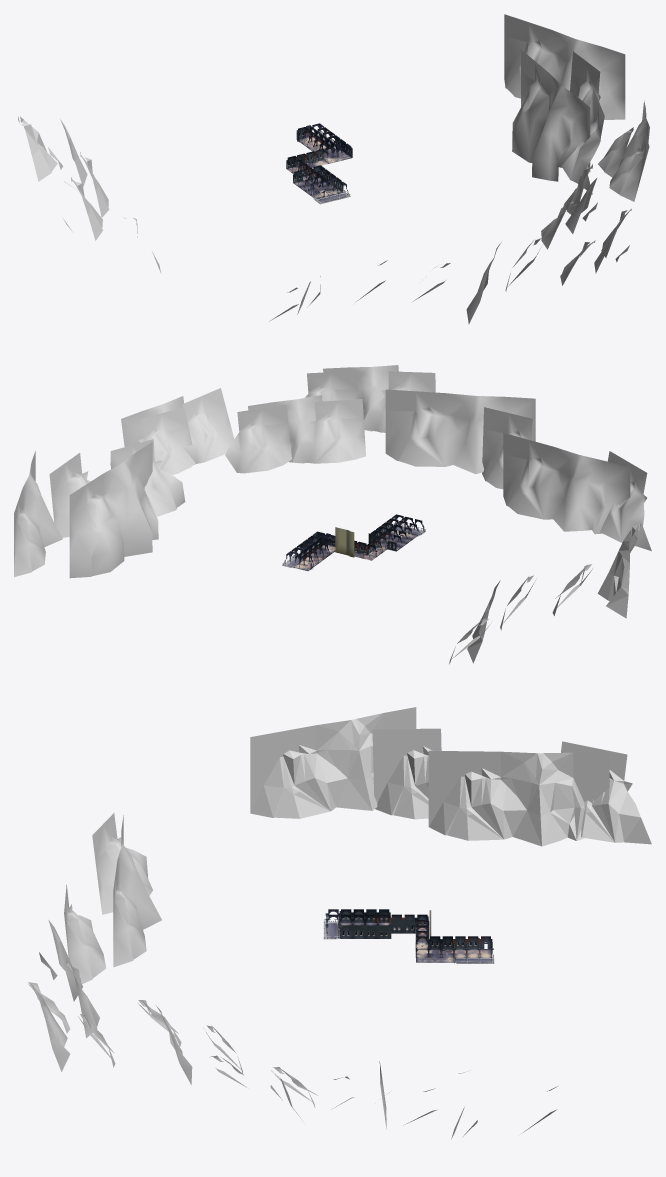
File: 06End.gltf
3 views of the same model, one above another, from view 1: azimuth 30°, elevation 25°; view 2: azimuth 150°, elevation 25°; view 3: azimuth 270°, elevation 25° (orthographic). The views are drawn at different scales.
Visible parts, largest first — view 1: stg013_p04_Mesh_0000.002, stg013_o44_Mesh_0000.001, stg013_o44_Mesh_0015.001, stg013_o44_Mesh_0001.001, stg013_o44_Mesh_0005.001, stg013_o44_Mesh_0011.001; view 2: stg013_p04_Mesh_0000.002, stg013_o44_Mesh_0000.001, stg013_o44_Mesh_0001.001, stg013_o44_Mesh_0015.001, stg013_o44_Mesh_0005.001, stg013_o04_Mesh_0000.001; view 3: stg013_p04_Mesh_0000.002, stg013_o44_Mesh_0001.001, stg013_o44_Mesh_0011.001, stg013_o44_Mesh_0015.001, stg013_o44_Mesh_0000.001.
Boxes of the visible parts, left/top/right/bottom form: stg013_p04_Mesh_0000.002: left=18, top=14, right=649, bottom=324; stg013_o44_Mesh_0000.001: left=287, top=123, right=351, bottom=196; stg013_o44_Mesh_0015.001: left=287, top=137, right=351, bottom=199; stg013_o44_Mesh_0001.001: left=286, top=125, right=352, bottom=204; stg013_o44_Mesh_0005.001: left=287, top=125, right=350, bottom=193; stg013_o44_Mesh_0011.001: left=286, top=125, right=352, bottom=188; stg013_p04_Mesh_0000.002: left=14, top=365, right=651, bottom=664; stg013_o44_Mesh_0000.001: left=286, top=514, right=422, bottom=560; stg013_o44_Mesh_0001.001: left=282, top=516, right=425, bottom=569; stg013_o44_Mesh_0015.001: left=293, top=528, right=417, bottom=570; stg013_o44_Mesh_0005.001: left=286, top=516, right=423, bottom=561; stg013_o04_Mesh_0000.001: left=335, top=527, right=354, bottom=557; stg013_p04_Mesh_0000.002: left=28, top=707, right=651, bottom=1139; stg013_o44_Mesh_0001.001: left=323, top=911, right=494, bottom=963; stg013_o44_Mesh_0011.001: left=339, top=911, right=492, bottom=946; stg013_o44_Mesh_0015.001: left=338, top=922, right=491, bottom=963; stg013_o44_Mesh_0000.001: left=324, top=909, right=493, bottom=957.
Bounding box in the file's own units: 1088 × 213 × 863.
